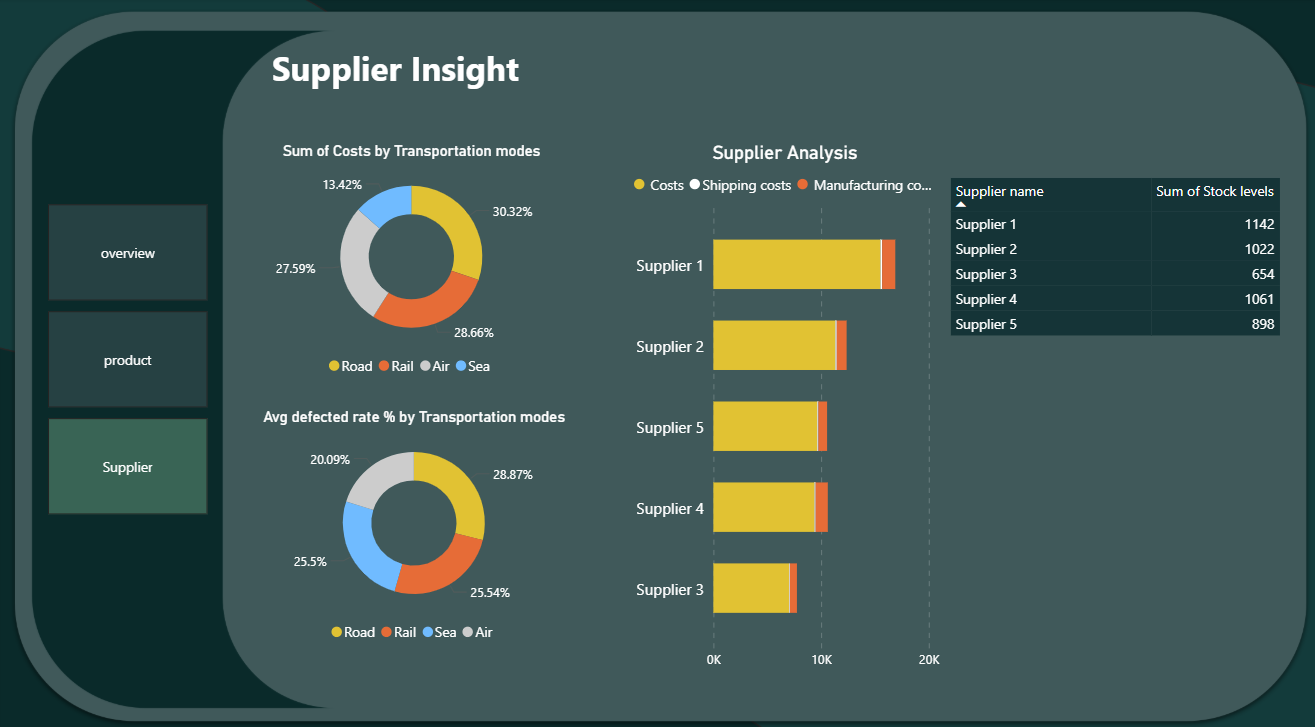

The page's visual inventory and layout, read from the dashboard file:
{"tool":"powerbi","page":{"name":"Supplier","canvas":[1280,720],"ordinal":2},"visuals":[{"type":"donutChart","fields":{"Y":["Sum(supply_chain_data.Costs)"],"Category":["supply_chain_data.Transportation modes"]},"box":[226,138.8,347.1,234.9],"z":0},{"type":"donutChart","fields":{"Category":["supply_chain_data.Transportation modes"],"Y":["Table.Avg defected rate %"]},"box":[227.8,395.1,347.1,234.9],"z":1000},{"type":"barChart","title":"Supplier Analysis","fields":{"Category":["supply_chain_data.Supplier name"],"Y":["Sum(supply_chain_data.Costs)","Sum(supply_chain_data.Shipping costs)","Sum(supply_chain_data.Manufacturing costs)"]},"box":[605.1,138.8,307.9,517.9],"z":2000},{"type":"tableEx","fields":{"Values":["supply_chain_data.Supplier name","Sum(supply_chain_data.Stock levels)"]},"box":[913,169.1,366.6,176.2],"z":3000},{"type":"textbox","box":[259.8,40.9,259.8,55.2],"z":5000},{"type":"pageNavigator","box":[48.1,199.3,154.8,300.8],"z":6000}]}

Visuals, with their boxes in screenshot pixels (x1, y1, x2, y2), scaled from the page's 1280x720 canvas onto the 1315x727 screenshot:
donutChart - Sum(supply_chain_data.Costs) x supply_chain_data.Transportation modes: [left=232, top=140, right=589, bottom=377]
donutChart - supply_chain_data.Transportation modes x Table.Avg defected rate %: [left=234, top=399, right=591, bottom=636]
"Supplier Analysis" barChart: [left=622, top=140, right=938, bottom=663]
tableEx - supply_chain_data.Supplier name x Sum(supply_chain_data.Stock levels): [left=938, top=171, right=1314, bottom=349]
textbox: [left=267, top=41, right=534, bottom=97]
pageNavigator: [left=49, top=201, right=208, bottom=505]
